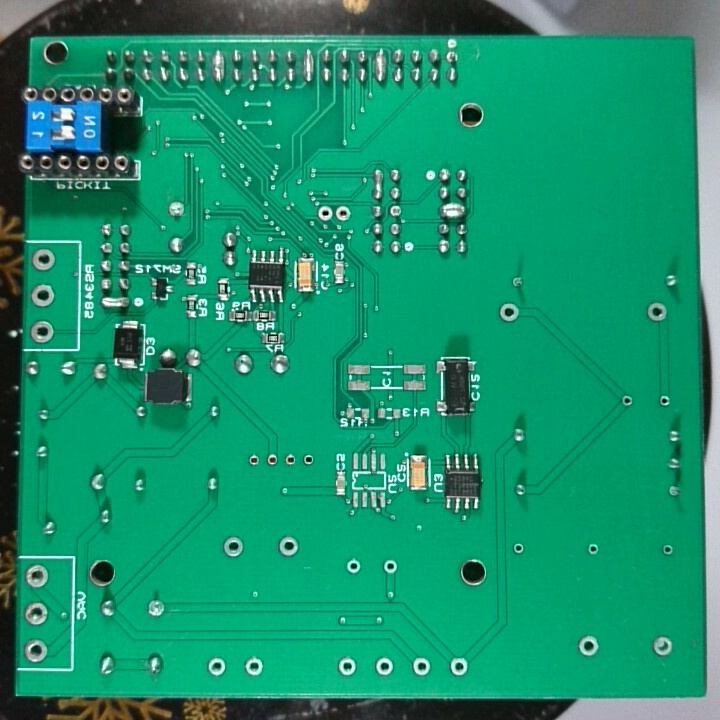F: (27, 315, 56, 351), (21, 598, 53, 629), (645, 630, 677, 660), (23, 561, 53, 591), (28, 280, 58, 309), (573, 630, 602, 660), (22, 635, 50, 666), (29, 246, 59, 273), (220, 534, 246, 562), (496, 300, 524, 326), (275, 532, 300, 560), (645, 298, 670, 326), (204, 655, 230, 681), (373, 655, 398, 682), (145, 595, 169, 623), (335, 653, 359, 680), (447, 652, 470, 680), (410, 654, 433, 680), (241, 654, 265, 678), (163, 198, 188, 221), (333, 201, 352, 227), (379, 554, 399, 577), (344, 556, 364, 578), (510, 538, 530, 559), (509, 272, 530, 292), (386, 201, 406, 220), (316, 203, 335, 222), (659, 540, 678, 559), (618, 392, 636, 412), (301, 449, 316, 471), (247, 449, 262, 471), (444, 48, 462, 66), (666, 483, 684, 501), (265, 450, 281, 470), (282, 449, 297, 470), (656, 393, 673, 411), (585, 540, 599, 559)
P: (373, 44, 390, 89), (210, 47, 227, 86), (438, 200, 467, 220), (98, 295, 134, 311), (300, 43, 312, 88), (371, 167, 386, 197)
